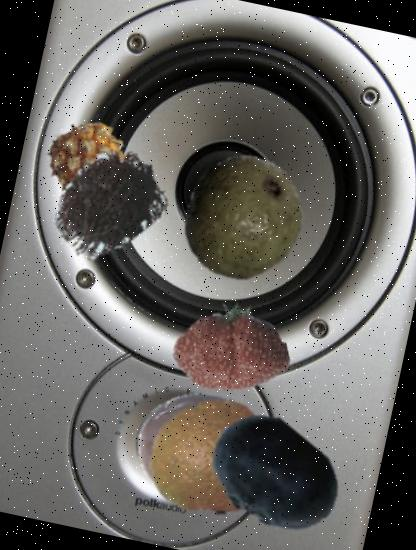Blueberry: (193, 395, 354, 550)
Guava: (168, 143, 318, 294)
Mandarine: (135, 372, 305, 542)
Passion: (124, 373, 278, 527)
Pineapple: (36, 112, 144, 220)
Rambutan: (38, 134, 177, 272)
Strawberry: (161, 280, 296, 415)
